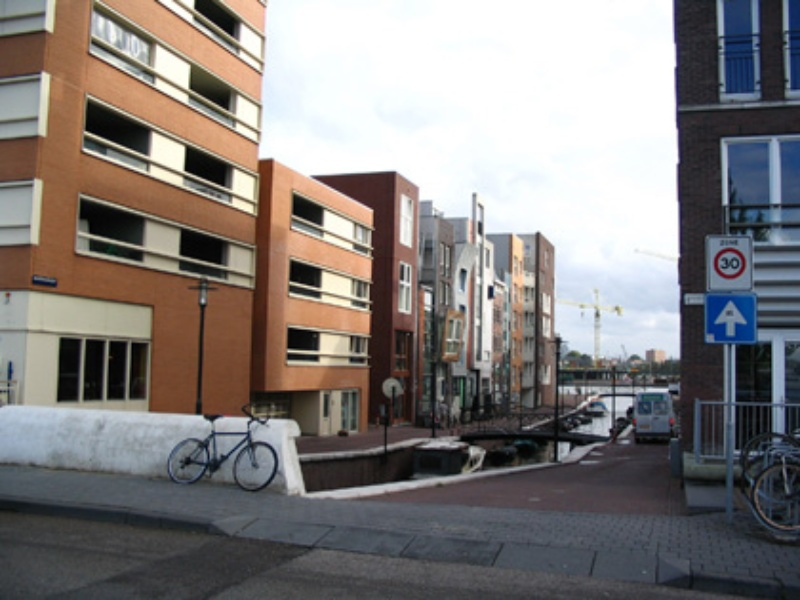car: (633, 389, 676, 444)
